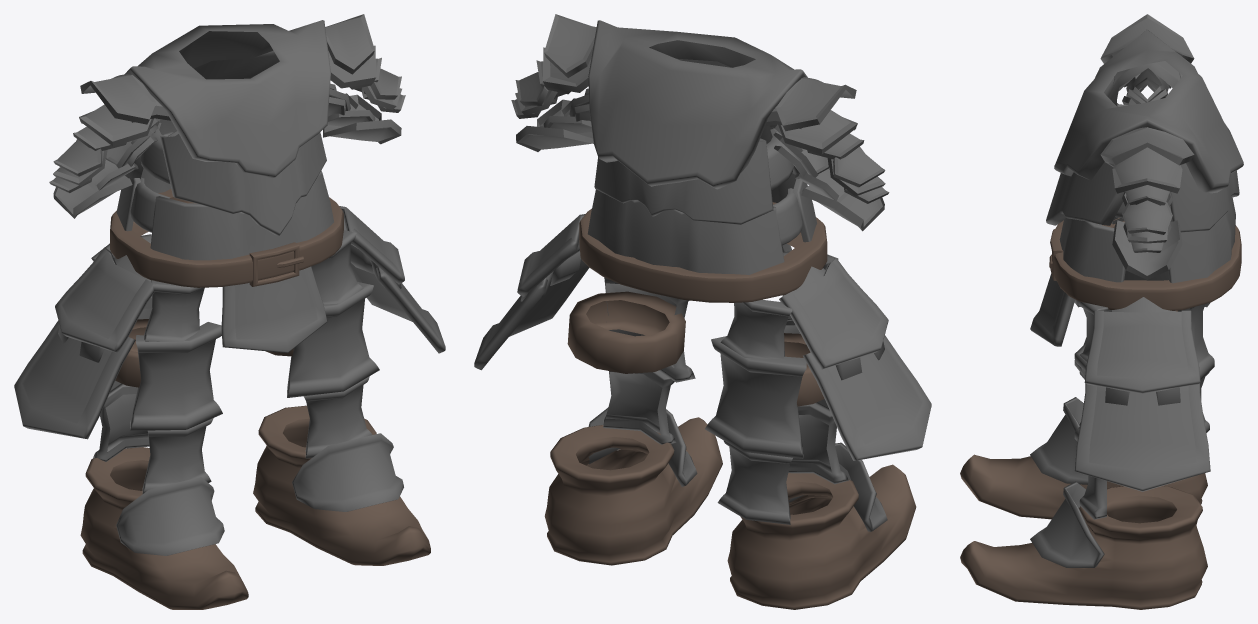
The model's file is Armadura.fbx.
The picture shows the model from 3 angles, left to right: view 1: azimuth 30°, elevation 25°; view 2: azimuth 150°, elevation 25°; view 3: azimuth 270°, elevation 25°; orthographic projection. The views are drawn at different scales.
Parts seen in each view (by area): view 1: Armadura_prueba; view 2: Armadura_prueba; view 3: Armadura_prueba.
Part boxes in pixels (<box>): Armadura_prueba: <box>14,14,445,609</box>; Armadura_prueba: <box>474,14,931,609</box>; Armadura_prueba: <box>960,14,1243,609</box>.
Size of the model in its own units: 1.47 by 1.66 by 0.9035.
